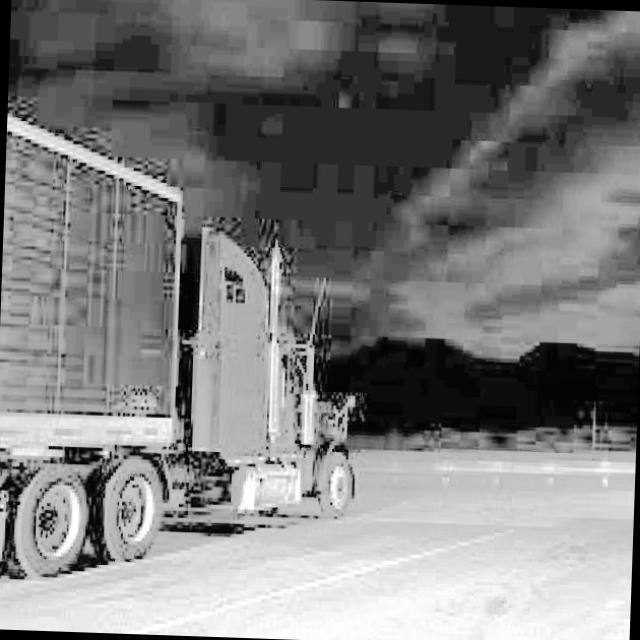Truck: (0, 88, 374, 594)
